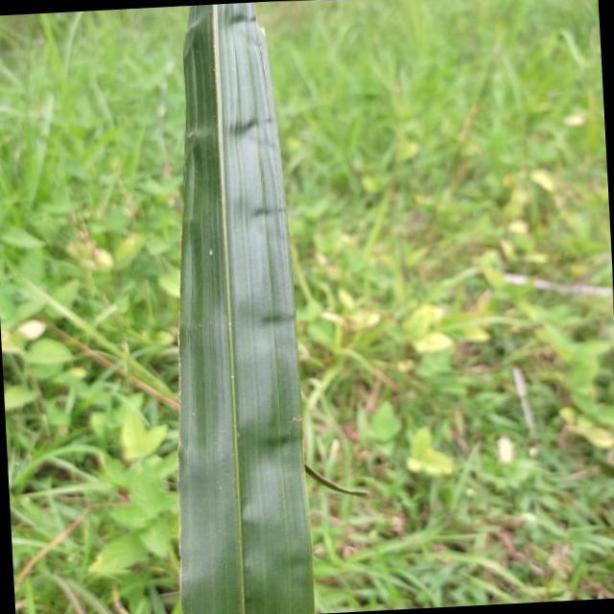Boron: (184, 0, 318, 614)
